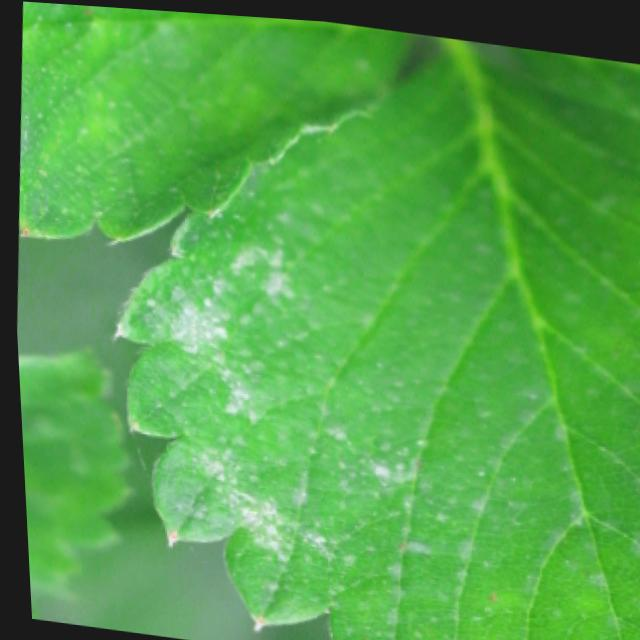Powdery Mildew Leaf: (107, 31, 640, 640)
